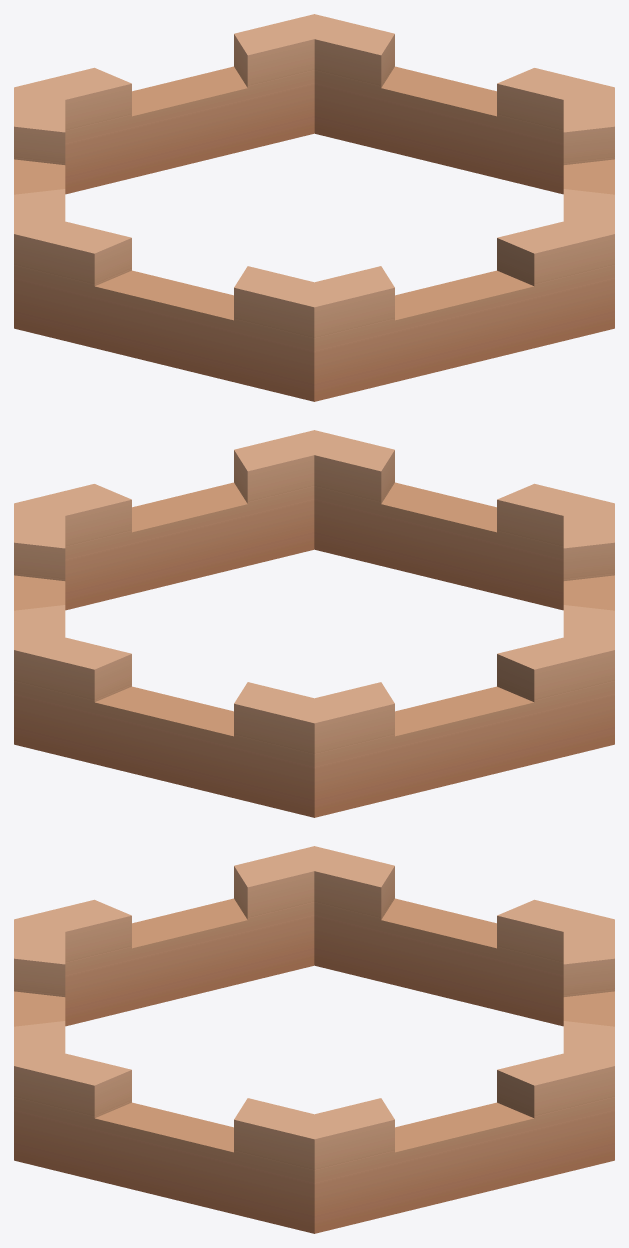
The model's file is tower-hexagon-top.glb.
The picture shows the model from 3 angles, top to bottom: view 1: azimuth 30°, elevation 25°; view 2: azimuth 150°, elevation 25°; view 3: azimuth 270°, elevation 25°; orthographic projection.
Parts seen in each view (by area): view 1: tower-hexagon-top; view 2: tower-hexagon-top; view 3: tower-hexagon-top.
Part boxes in pixels (box(x1,y1,x2,y2)): tower-hexagon-top: box(14, 14, 614, 401); tower-hexagon-top: box(14, 430, 614, 817); tower-hexagon-top: box(14, 846, 614, 1233).
Size of the model in its own units: 0.864 by 0.1299 by 0.7483.
1 material, 1 textured.
